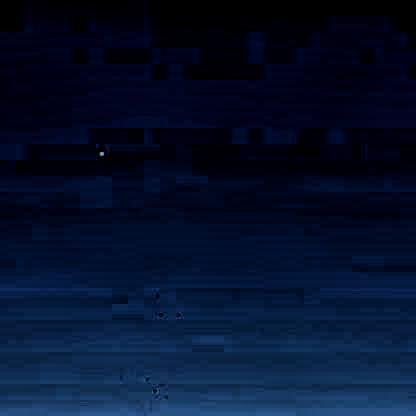golfball: (94, 146, 104, 156)
